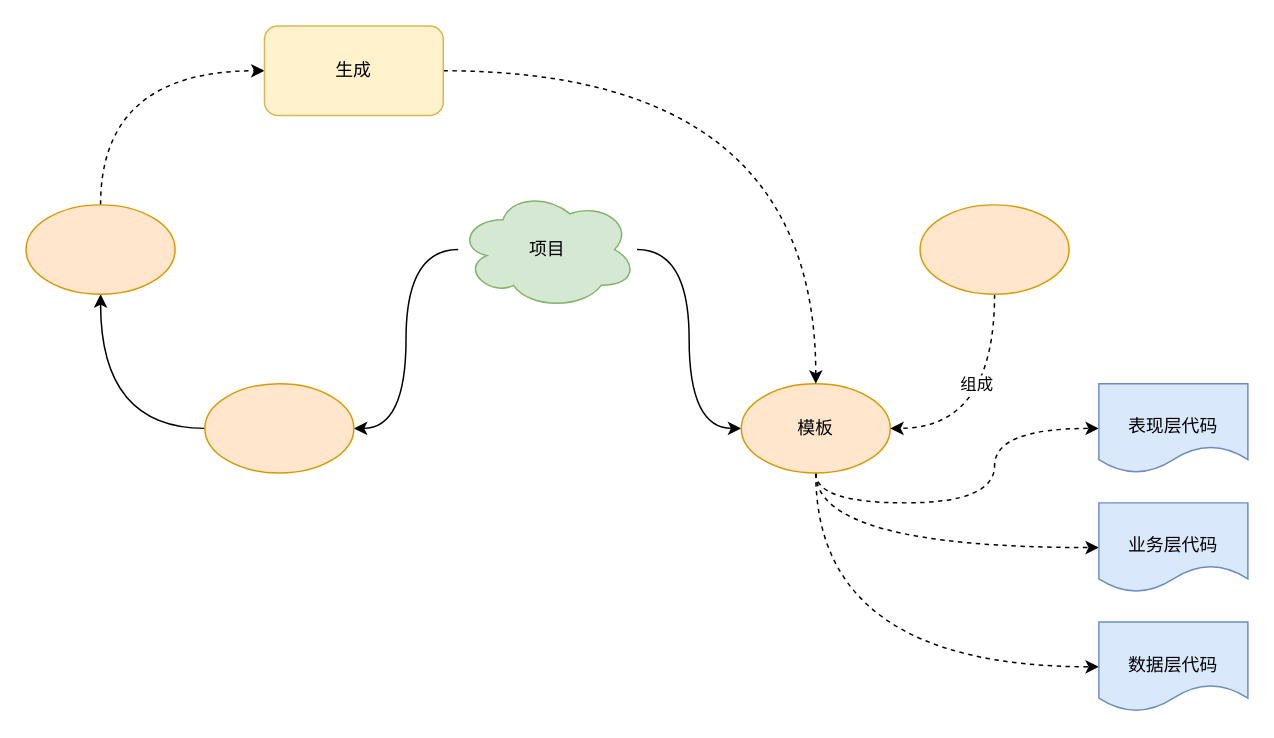
This 1274x738 diagram has some shape labels left out. Each missing label, with the centre of its shape:
"代码段" goes at (x=994, y=248).
"功能" goes at (x=100, y=248).
"模块" goes at (x=278, y=427).
